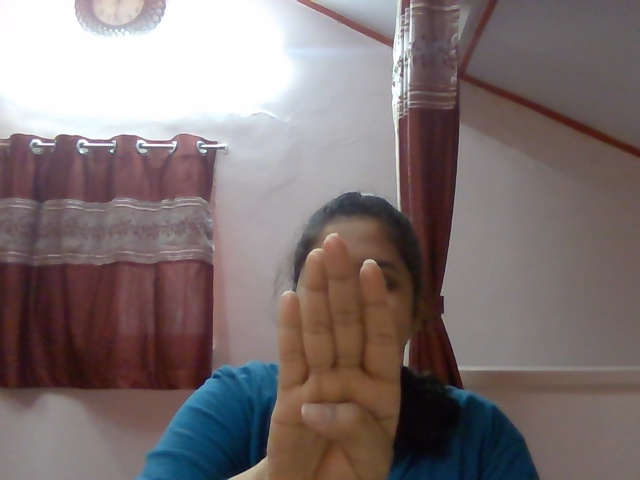b: (216, 223, 441, 480)
